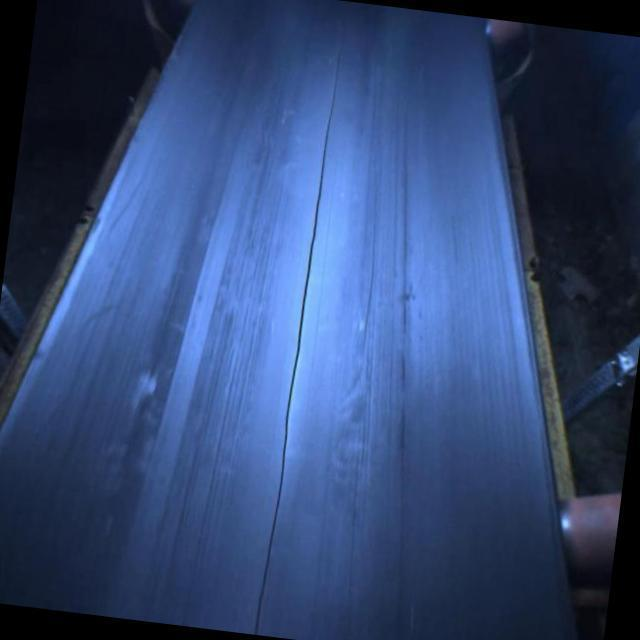Tear: (249, 73, 337, 636)
